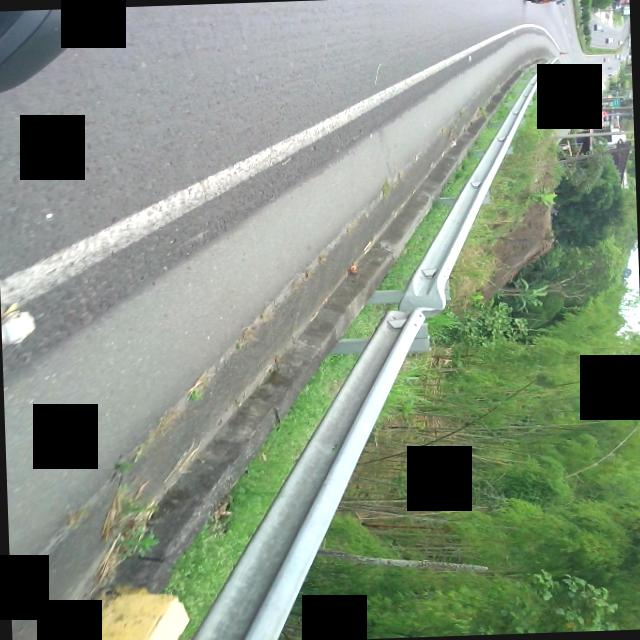DITCH: (0, 25, 582, 640)
